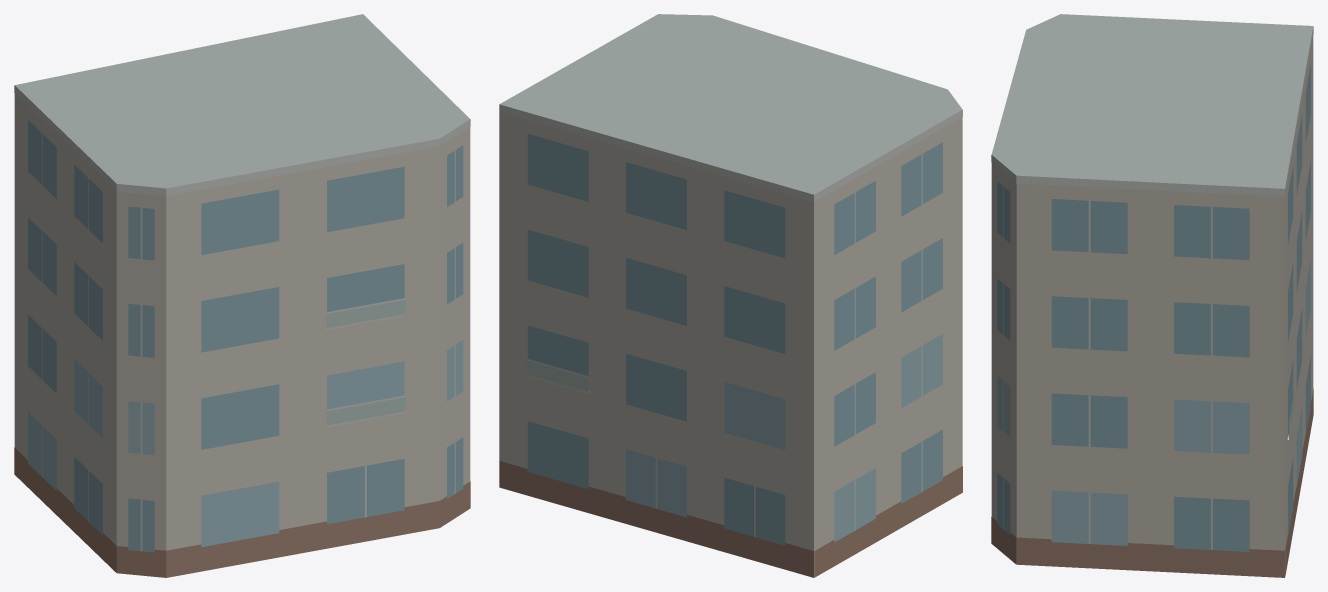
The model's file is survey-upis-32639208.glb.
3 renders of one model, left to right at view 1: azimuth 30°, elevation 25°; view 2: azimuth 150°, elevation 25°; view 3: azimuth 270°, elevation 25°, orthographic.
Parts seen in each view (by area): view 1: survey-upis-32639208.tmp; view 2: survey-upis-32639208.tmp; view 3: survey-upis-32639208.tmp.
Boxes of the visible parts, x1,y1,x2,y2 form: survey-upis-32639208.tmp: [14, 14, 470, 577]; survey-upis-32639208.tmp: [499, 14, 962, 577]; survey-upis-32639208.tmp: [991, 14, 1313, 577].
Bounding box in the file's own units: 11.87 × 12.3 × 9.24.
